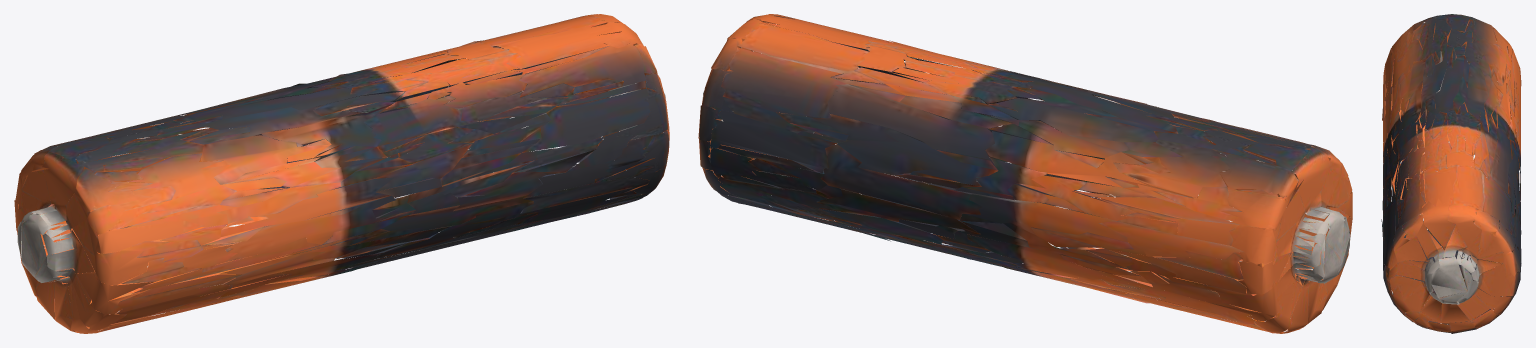
Rendered from battery.glb.
The picture shows the model from 3 angles, left to right: view 1: azimuth 30°, elevation 25°; view 2: azimuth 150°, elevation 25°; view 3: azimuth 270°, elevation 25°; orthographic projection. The views are drawn at different scales.
Visible parts, largest first — view 1: battery; view 2: battery; view 3: battery.
Part boxes in pixels (x1=…): battery: x1=14, y1=14, x2=669, y2=333; battery: x1=698, y1=14, x2=1352, y2=333; battery: x1=1381, y1=14, x2=1521, y2=333.
Bounding box in the file's own units: 0.055 × 0.0149 × 0.0148.
Materials: 1 (1 with a texture image).
